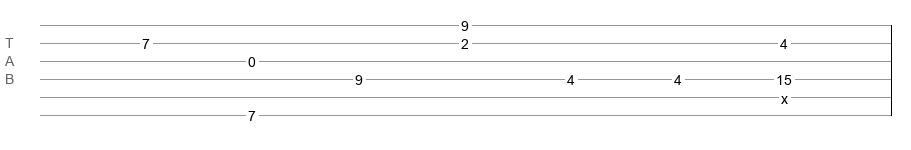0: (248, 54, 256, 64)
15: (776, 72, 792, 82)
2: (461, 36, 469, 46)
4: (567, 72, 575, 82), (674, 72, 682, 82), (780, 36, 788, 46)
7: (142, 36, 150, 46), (248, 108, 256, 118)
9: (355, 72, 363, 82), (461, 18, 469, 28)
x: (781, 91, 788, 99)
